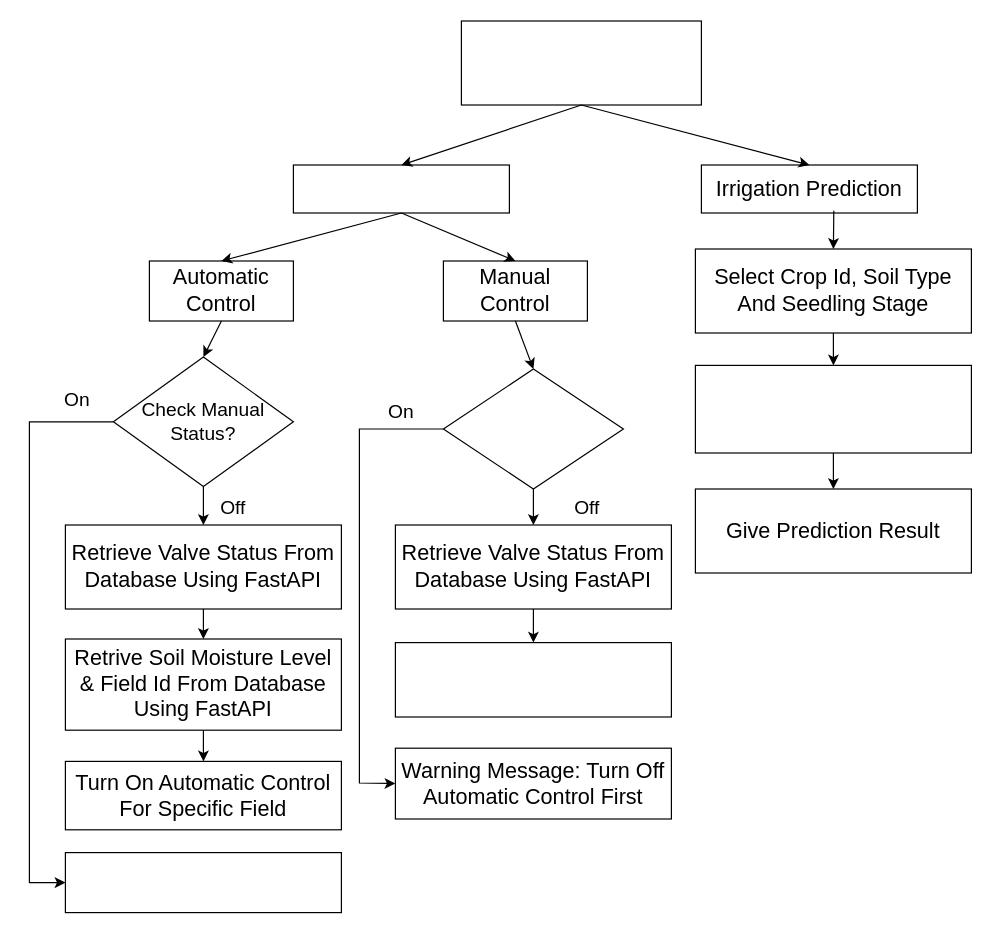
The diagram is 992 pixels wide and 934 high, and some of its shapes have lost their labels. Each missing label, with the centre of its shape:
"Check Automatic Status?" goes at (x=532, y=428).
"Flutter Application" goes at (x=580, y=62).
"Pump Control" goes at (x=400, y=188).
"Retrieve Other Parameters From Database Using FastAPI" goes at (x=832, y=408).
"Turn On Manual Control For Specific Field" goes at (x=532, y=679).
"Warning Message: Turn Off Manual Control First" goes at (x=202, y=882).
